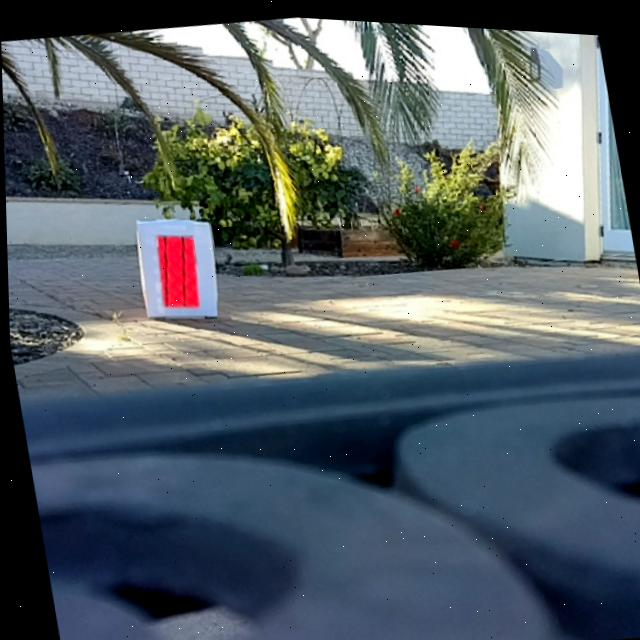led: (151, 230, 201, 311)
